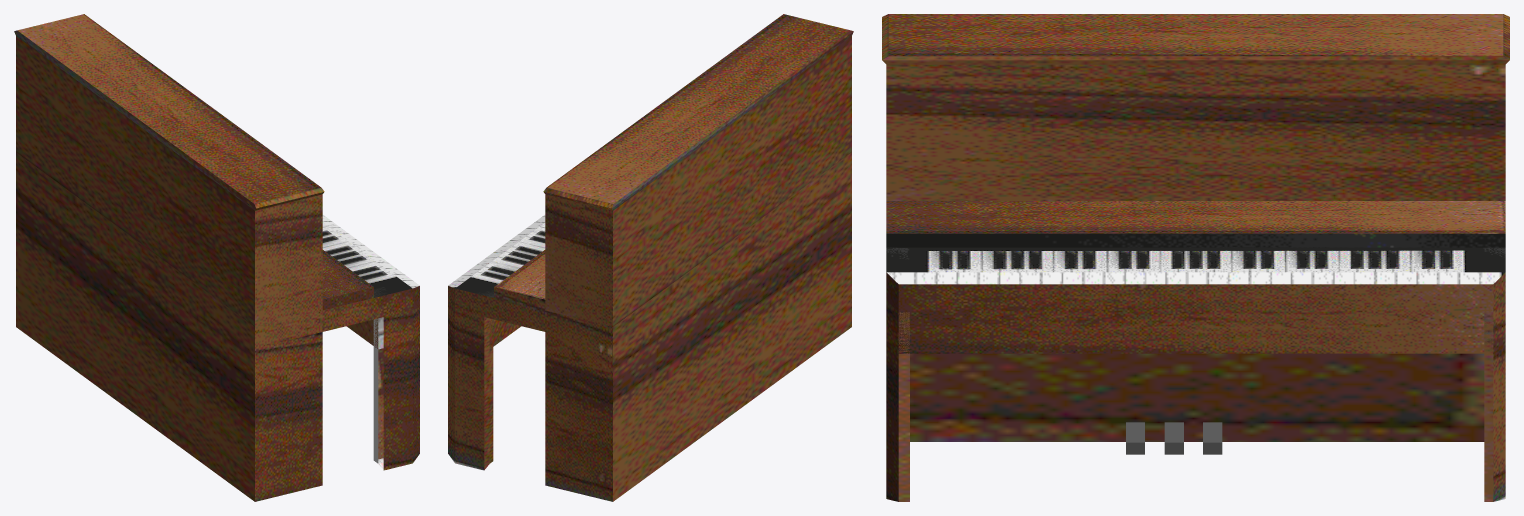
The model's file is Pianoasset.fbx.
3 views of the same model, side by side, from view 1: azimuth 30°, elevation 25°; view 2: azimuth 150°, elevation 25°; view 3: azimuth 270°, elevation 25° (orthographic). The views are drawn at different scales.
Visible parts, largest first — view 1: Cube; view 2: Cube; view 3: Cube, Cube.003.
Boxes of the visible parts, box(x1,y1,x2,y2) form: Cube: box(14, 14, 419, 501); Cube: box(448, 14, 853, 501); Cube: box(882, 14, 1509, 501); Cube.003: box(1126, 422, 1222, 454).
Size of the model in its own units: 216 by 360 by 531.
2 materials, 1 textured.
